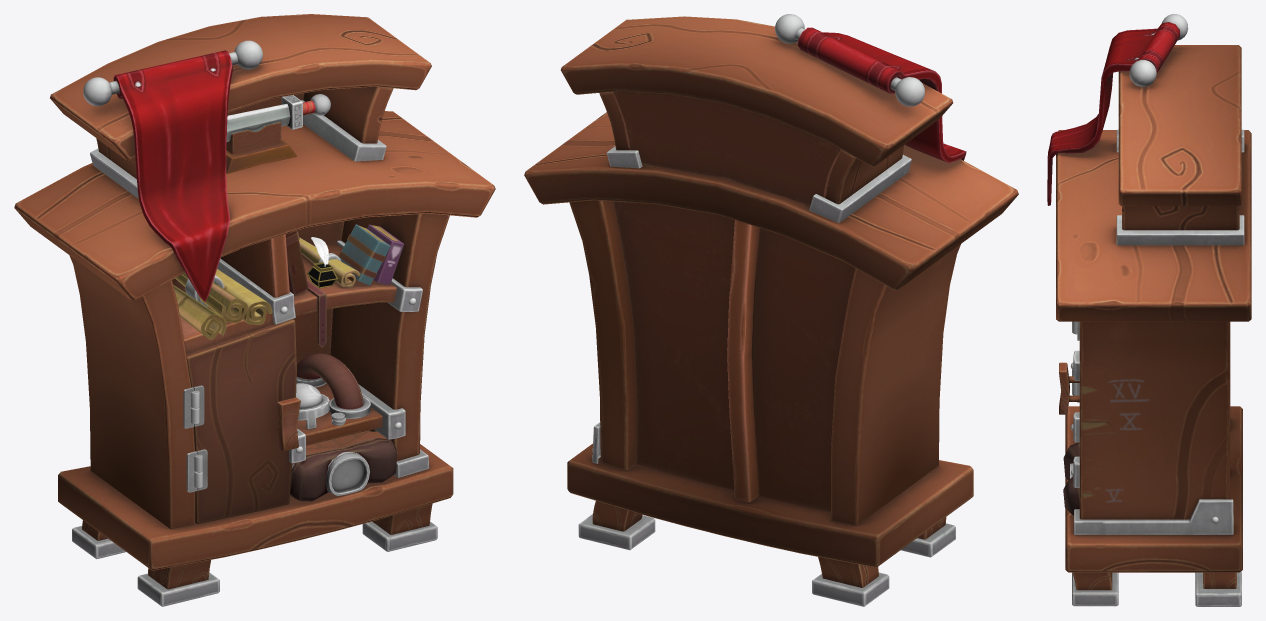
File: closet_glb.obj
The picture shows the model from 3 angles, left to right: view 1: azimuth 30°, elevation 25°; view 2: azimuth 150°, elevation 25°; view 3: azimuth 270°, elevation 25°; orthographic projection. The views are drawn at different scales.
Visible parts, largest first — view 1: obj4, obj6, obj5, obj1, obj3, obj2; view 2: obj4, obj5, obj3, obj1, obj2; view 3: obj4, obj3, obj1, obj2, obj6.
Boxes of the visible parts, bbox=[...] form: obj4: bbox=[14, 14, 495, 589]; obj6: bbox=[173, 94, 404, 501]; obj5: bbox=[69, 255, 195, 528]; obj1: bbox=[113, 50, 232, 302]; obj3: bbox=[72, 100, 437, 606]; obj2: bbox=[83, 40, 262, 106]; obj4: bbox=[524, 16, 1018, 587]; obj5: bbox=[831, 244, 960, 525]; obj3: bbox=[578, 146, 955, 606]; obj1: bbox=[798, 27, 966, 162]; obj2: bbox=[775, 14, 924, 106]; obj4: bbox=[1056, 45, 1251, 590]; obj3: bbox=[1070, 129, 1244, 606]; obj1: bbox=[1047, 22, 1179, 205]; obj2: bbox=[1129, 14, 1188, 86]; obj6: bbox=[1063, 442, 1079, 515].
Bounding box in the file's own units: 5.27 × 6.72 × 2.61.
3 materials, 3 textured.
